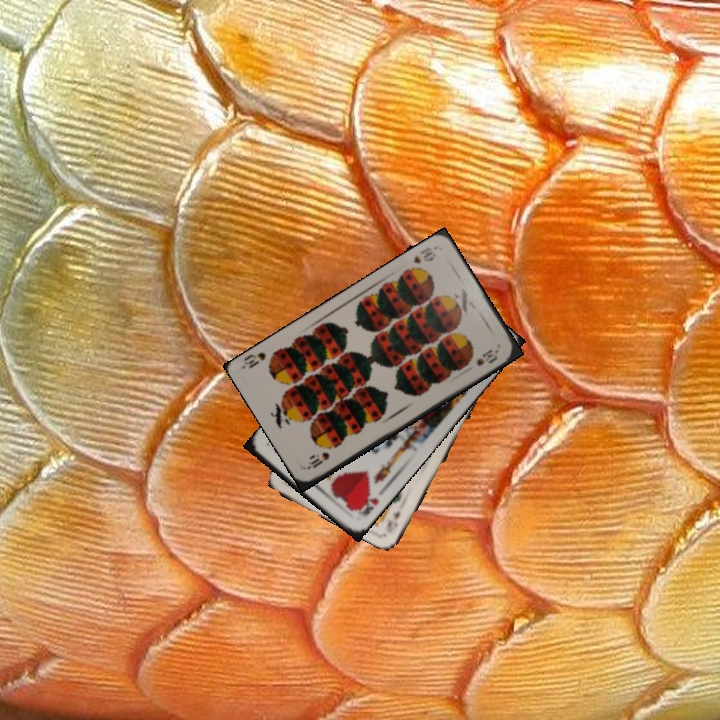EK: (382, 507, 403, 536)
HK: (352, 490, 382, 518)
S10: (409, 243, 439, 266), (304, 448, 332, 471)
